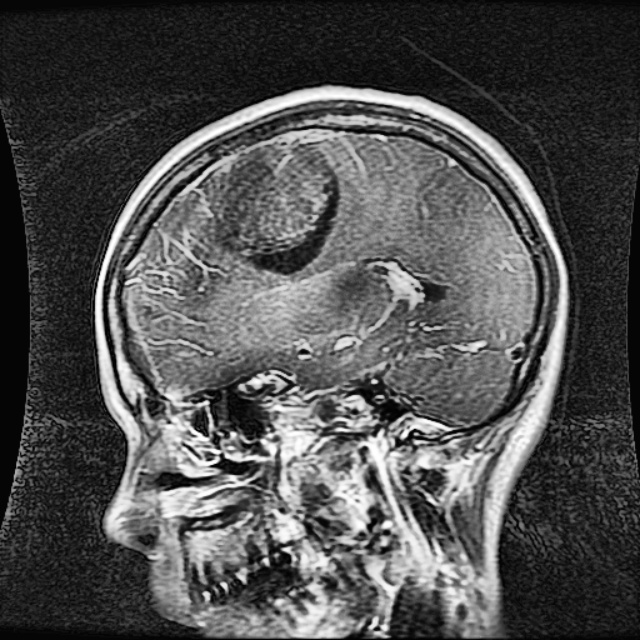Meningioma: (214, 142, 344, 272)
